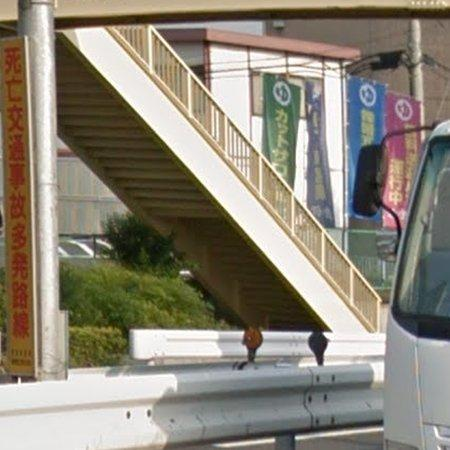stairs: (56, 26, 382, 333)
